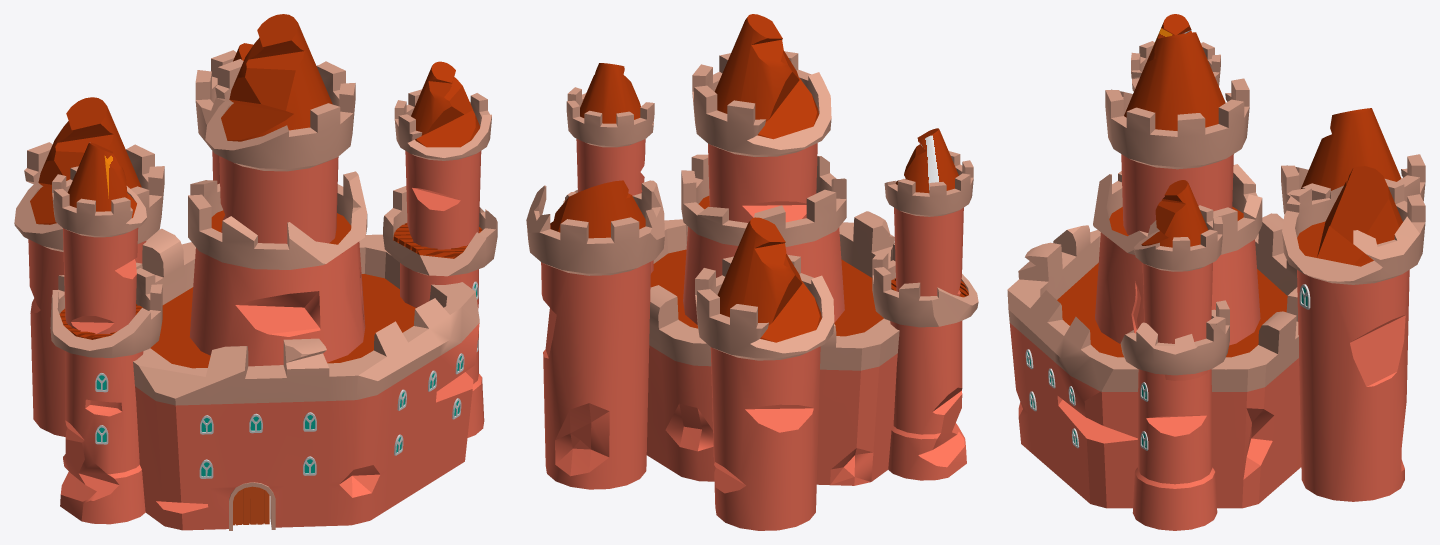
Rendered from Big_Castle_UpgradeDouble_Stage2.fbx.
3 renders of one model, left to right at view 1: azimuth 30°, elevation 25°; view 2: azimuth 150°, elevation 25°; view 3: azimuth 270°, elevation 25°, orthographic. The views are drawn at different scales.
Parts seen in each view (by area): view 1: Big_Castle_UpgradeDouble_Stage2; view 2: Big_Castle_UpgradeDouble_Stage2; view 3: Big_Castle_UpgradeDouble_Stage2.
Part boxes in pixels (<box>): Big_Castle_UpgradeDouble_Stage2: <box>14,14,497,530</box>; Big_Castle_UpgradeDouble_Stage2: <box>526,14,978,530</box>; Big_Castle_UpgradeDouble_Stage2: <box>1007,14,1425,530</box>.
Size of the model in its own units: 962 by 931 by 853.
Materials: 1 (1 with a texture image).
